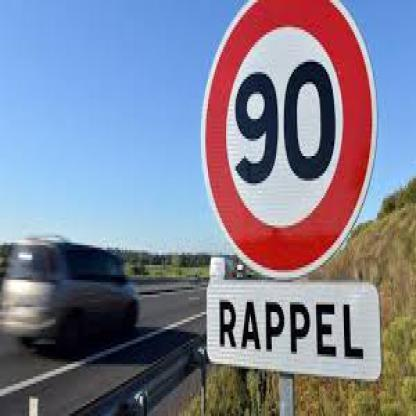Speed Limit 90: (204, 1, 372, 275)
